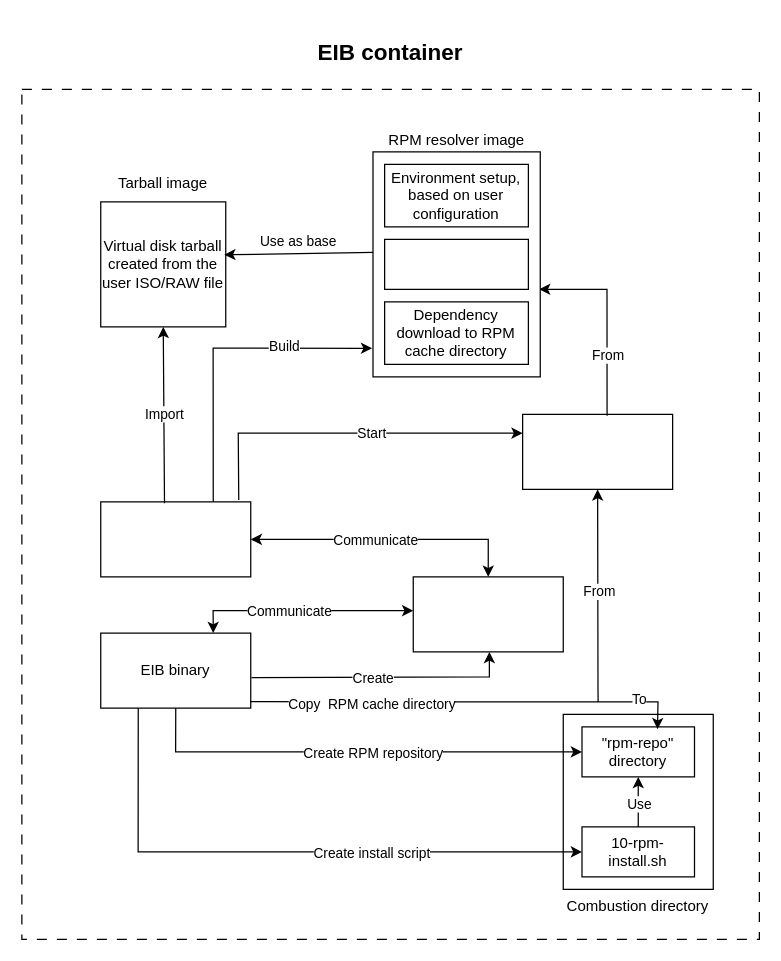
Some shapes in this 781 by 961 pixel diagram are drawn without their labels. The centre of each missing label's shape, as x and y in pixels:
"Podman" goes at (175,539).
"Podman listening service" goes at (487,614).
"RPM resolver container" goes at (597,451).
"Validation" goes at (455,263).
